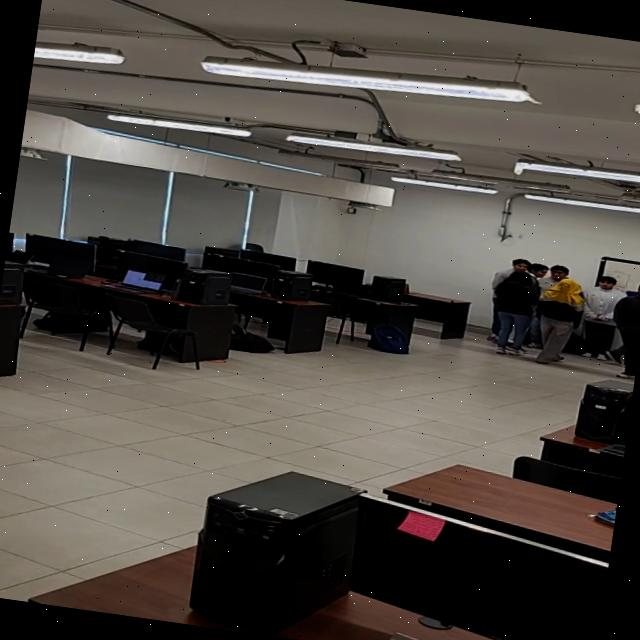Persona: (528, 276, 588, 358), (574, 270, 625, 356), (492, 271, 535, 351), (609, 280, 640, 369)
